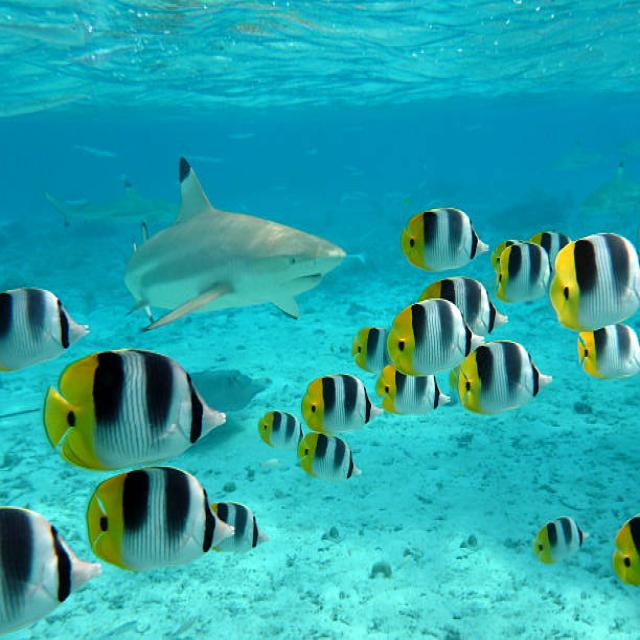ButterflyFish: (39, 345, 228, 464), (88, 472, 235, 572), (0, 506, 103, 623), (552, 226, 640, 332), (457, 335, 559, 412), (392, 301, 494, 366), (399, 205, 493, 271), (0, 283, 82, 356), (428, 263, 516, 331), (302, 367, 390, 434), (572, 313, 638, 382), (373, 361, 452, 418), (300, 434, 362, 488), (496, 233, 544, 299), (529, 512, 596, 558), (257, 404, 300, 448), (349, 322, 388, 368), (617, 512, 640, 582)
